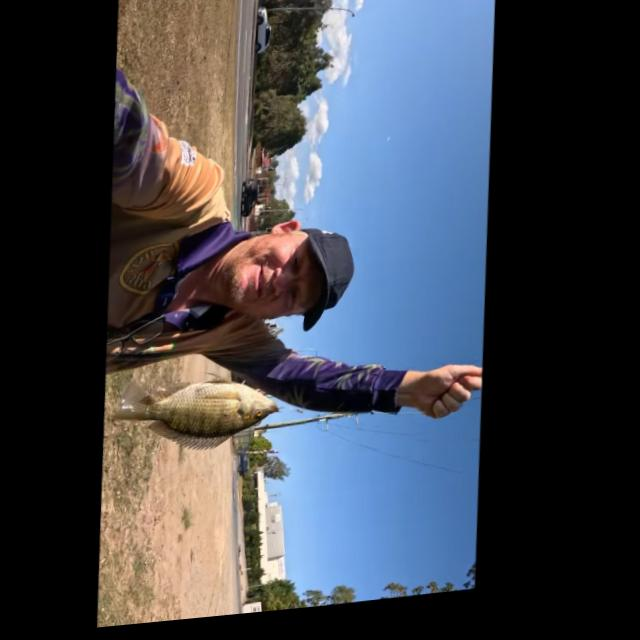Tilapia: (110, 359, 281, 462)
